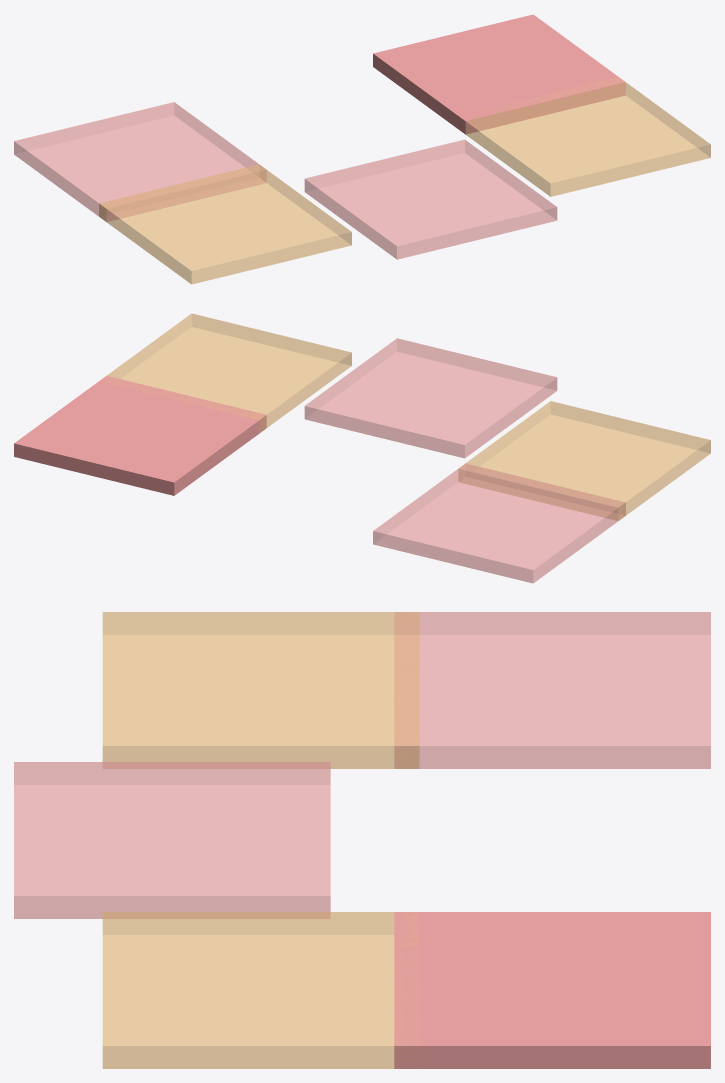
The model's file is castello_step5.glb.
The picture shows the model from 3 angles, top to bottom: view 1: azimuth 30°, elevation 25°; view 2: azimuth 150°, elevation 25°; view 3: azimuth 270°, elevation 25°; orthographic projection. The views are drawn at different scales.
Parts seen in each view (by area): view 1: quadrato_grande, quadrato_grande.002, quadrato_piccolo, quadrato_grande.001, quadrato_piccolo.001; view 2: quadrato_grande, quadrato_grande.002, quadrato_grande.001, quadrato_piccolo, quadrato_piccolo.001; view 3: quadrato_piccolo, quadrato_grande.001, quadrato_grande.002, quadrato_grande, quadrato_piccolo.001.
Boxes of the visible parts, x1,y1,x2,y2 form: quadrato_grande: [304, 139, 557, 259]; quadrato_grande.002: [373, 14, 625, 134]; quadrato_piccolo: [99, 164, 351, 284]; quadrato_grande.001: [14, 102, 266, 221]; quadrato_piccolo.001: [465, 77, 710, 196]; quadrato_grande: [304, 338, 557, 458]; quadrato_grande.002: [14, 375, 266, 495]; quadrato_grande.001: [373, 463, 625, 583]; quadrato_piccolo: [458, 401, 710, 520]; quadrato_piccolo.001: [101, 313, 351, 433]; quadrato_piccolo: [102, 612, 419, 768]; quadrato_grande.001: [394, 612, 710, 768]; quadrato_grande.002: [394, 912, 710, 1068]; quadrato_grande: [14, 762, 330, 918]; quadrato_piccolo.001: [102, 912, 419, 1068].
Size of the model in its own units: 3.24 by 0.08 by 2.2.
